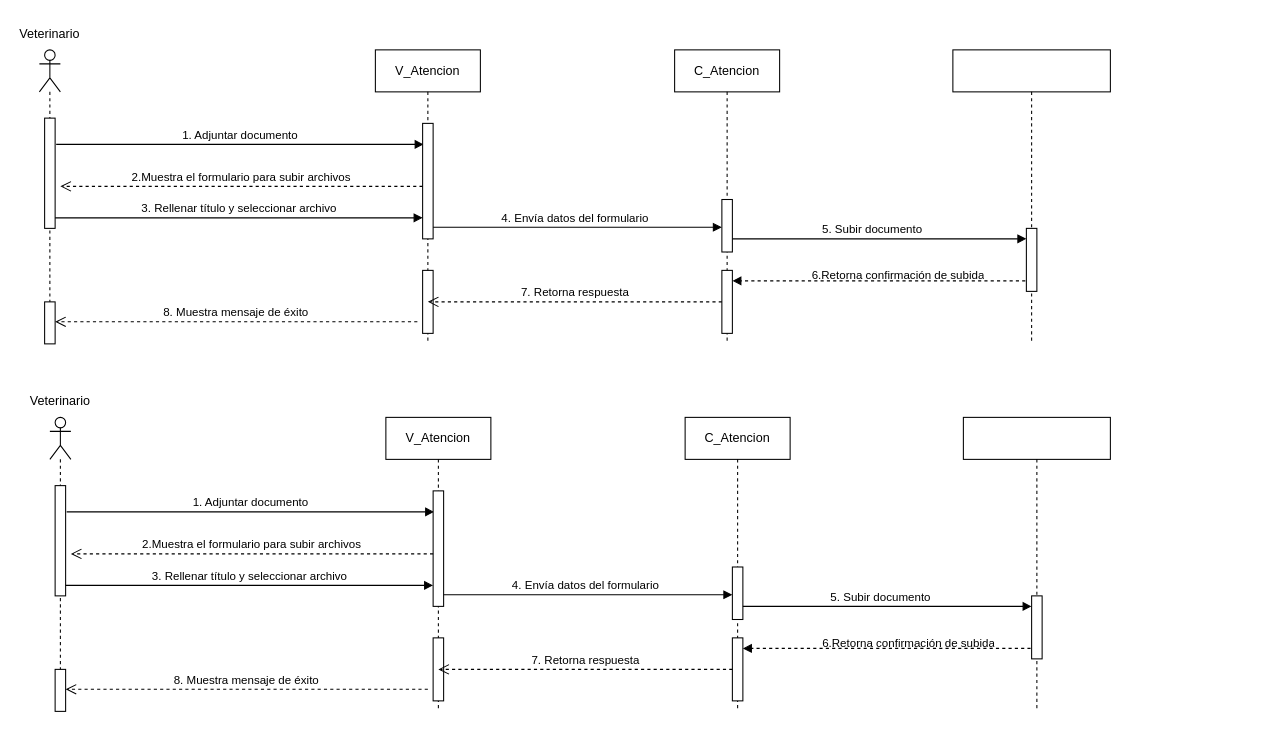
The diagram is 1285 pixels wide and 730 high, and some of its shapes have lost their labels. Here are the shapes that lost their labels. From the top down, the box of each, then its label:
(952, 49, 1110, 344): gestion_documentoadjunto
(962, 416, 1110, 711): gestion_atencionmedica
